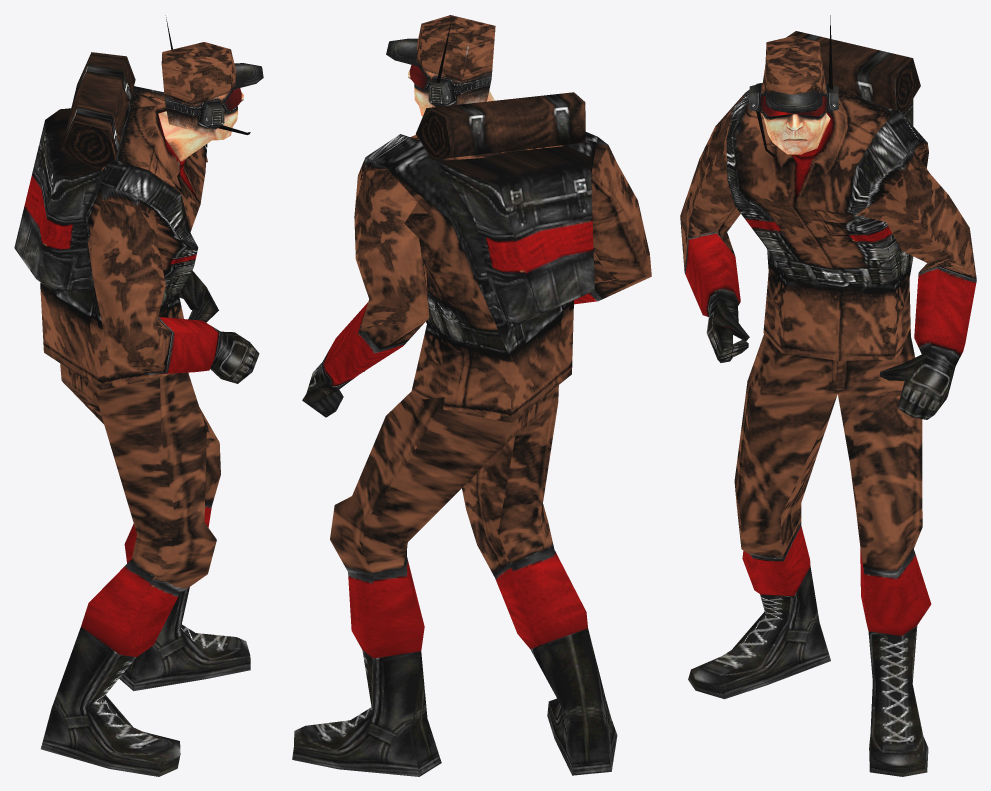
The model's file is scout.glb.
3 renders of one model, left to right at view 1: azimuth 30°, elevation 25°; view 2: azimuth 150°, elevation 25°; view 3: azimuth 270°, elevation 25°, orthographic. The views are drawn at different scales.
Visible parts, largest first — view 1: scout; view 2: scout; view 3: scout.
Boxes of the visible parts, x1,y1,x2,y2 form: scout: [14, 15, 263, 776]; scout: [292, 15, 651, 776]; scout: [680, 15, 976, 776].
Size of the model in its own units: 27.08 by 71.21 by 27.09.
3 materials, 3 textured.
